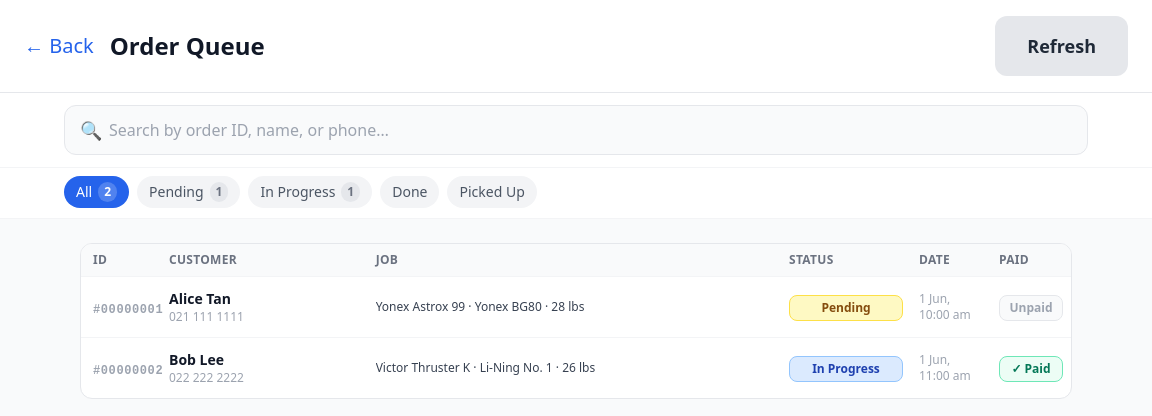
Test: OrderQueue compact table › search input filters visible rows
Expected: the number of elements with test id "order-row" is 2, [81,276,1071,337]; [81,337,1071,398]
Type "Bob" into the field with placeholder "Search by order ID, name, or phone…".
click(576, 130); type("Bob")  # box [64,105,1088,155]
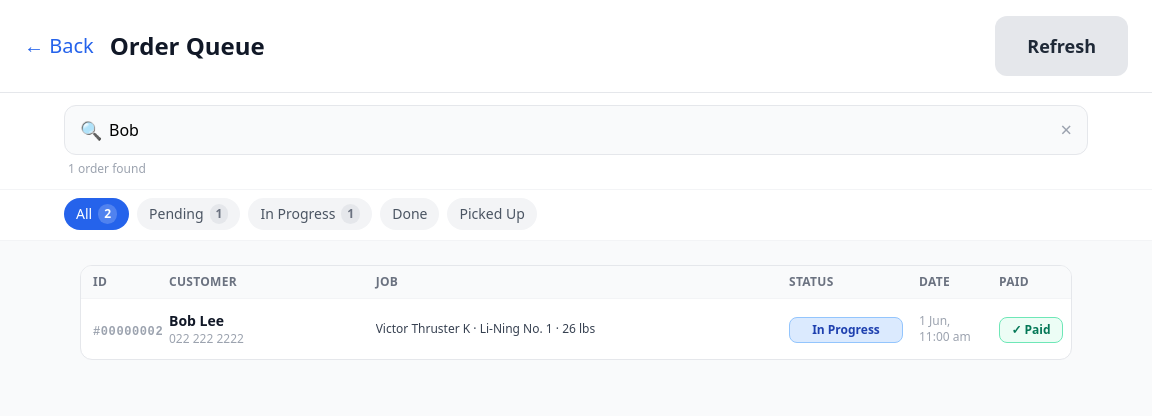
Expected: the text "Bob Lee" is shown, [169,311,224,330]
Expected: the text "Alice Tan" is gone
